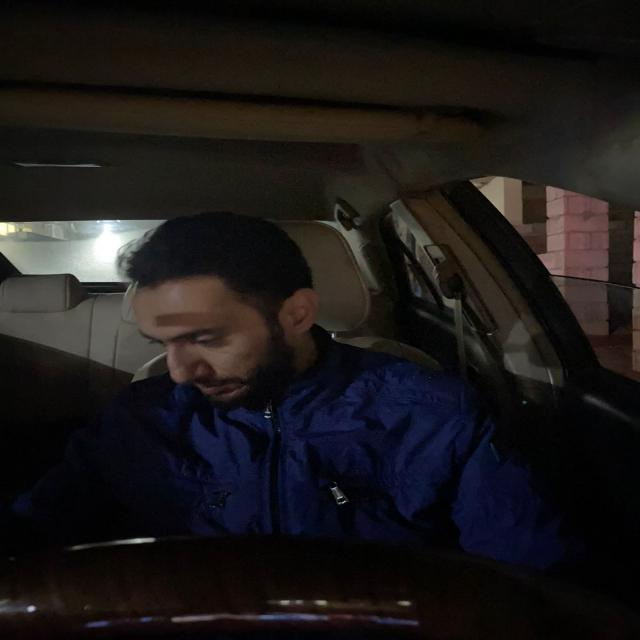person: (122, 223, 330, 414)
